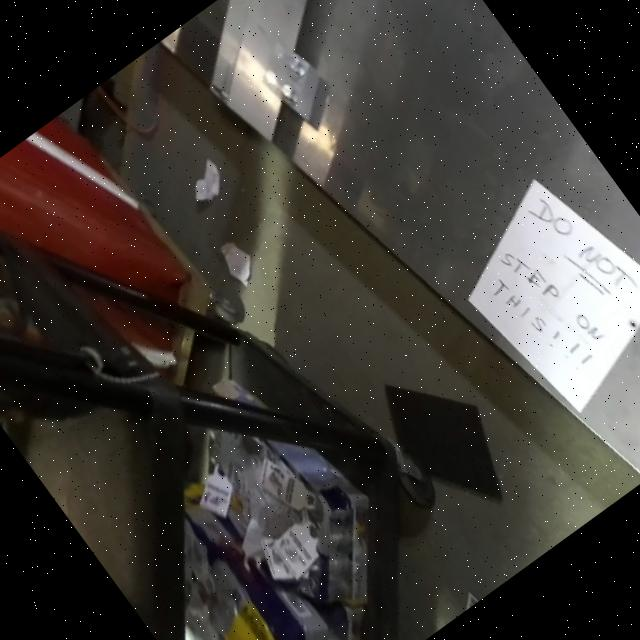blocks: (232, 12, 361, 156)
